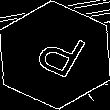P_SW: (24, 24, 86, 86)
